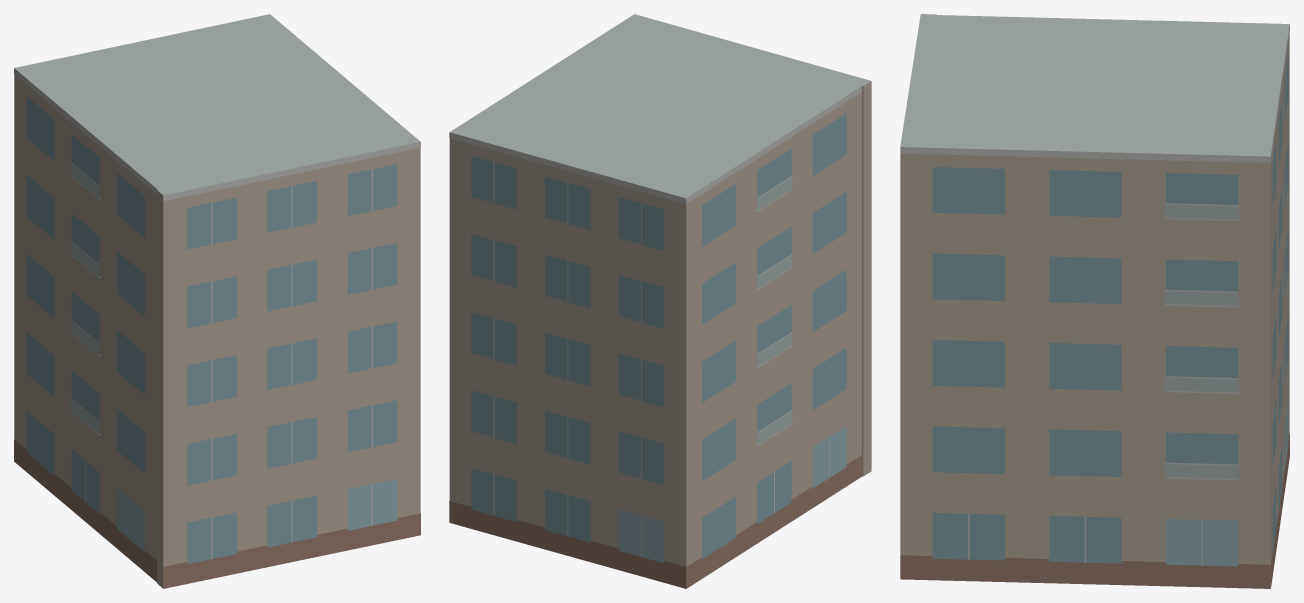
The model's file is survey-upis-32852718.glb.
The picture shows the model from 3 angles, left to right: view 1: azimuth 30°, elevation 25°; view 2: azimuth 150°, elevation 25°; view 3: azimuth 270°, elevation 25°; orthographic projection. The views are drawn at different scales.
Visible parts, largest first — view 1: survey-upis-32852718.tmp; view 2: survey-upis-32852718.tmp; view 3: survey-upis-32852718.tmp.
Boxes of the visible parts, x1,y1,x2,y2 form: survey-upis-32852718.tmp: (14, 14, 420, 588); survey-upis-32852718.tmp: (449, 14, 871, 588); survey-upis-32852718.tmp: (900, 14, 1289, 588).
Size of the model in its own units: 11.39 by 16.1 by 13.16.
